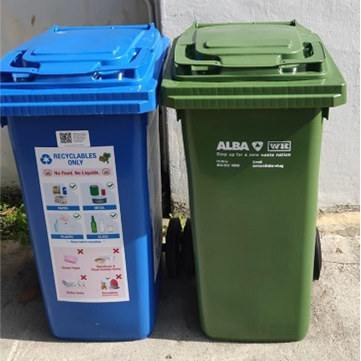bin_empty: (162, 21, 345, 340), (1, 24, 168, 339)
